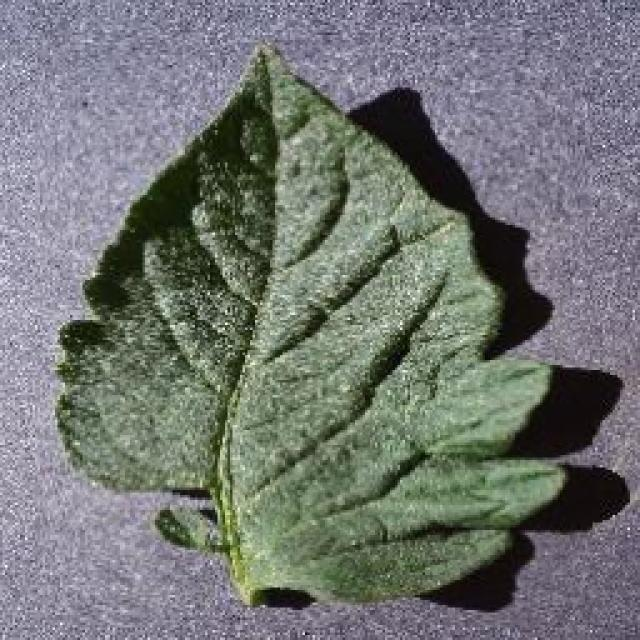Healthy: (35, 18, 593, 628)
